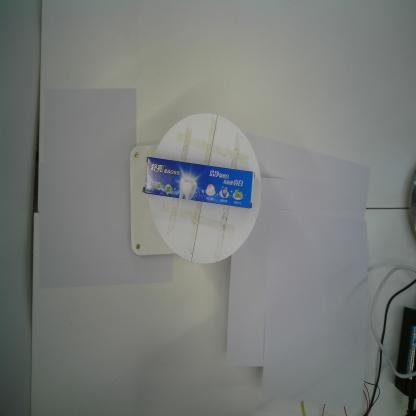Personal Hygiene: (141, 153, 256, 211)
